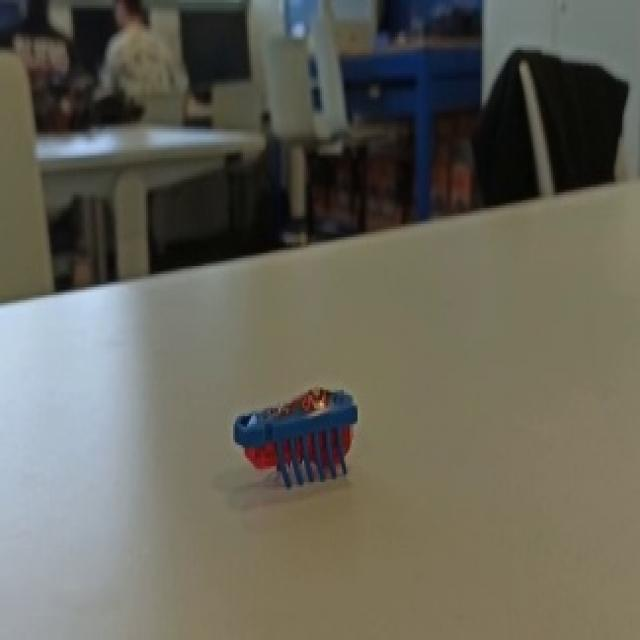1_NanoBug_Azul: (212, 353, 390, 507)
